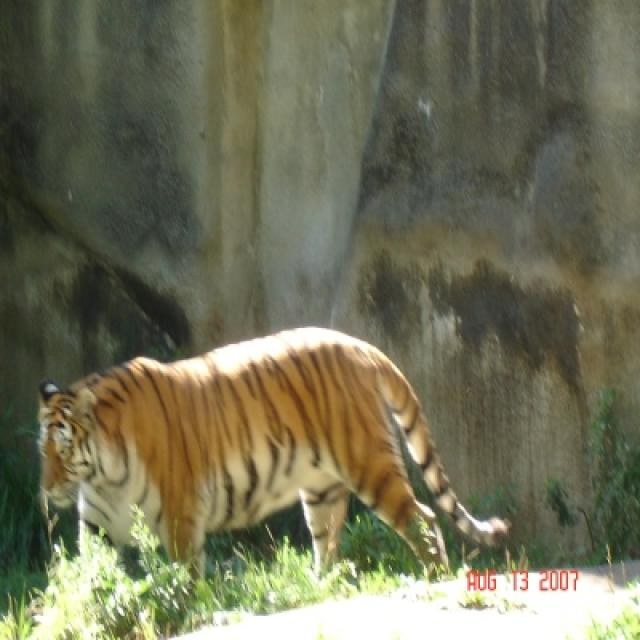Tiger: (30, 317, 517, 618)
